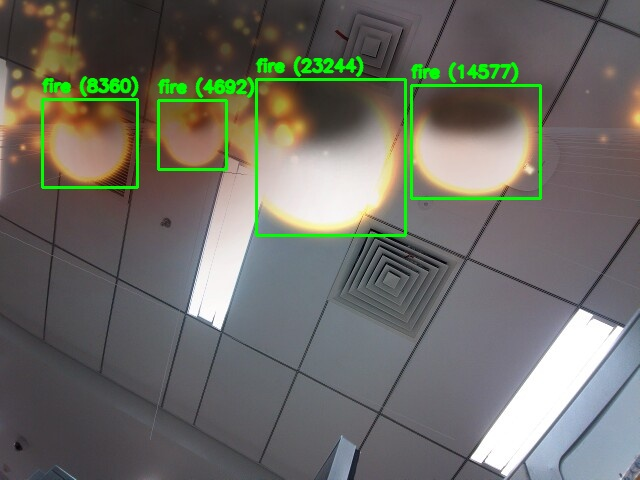fire: (256, 79, 405, 235), (411, 85, 540, 198), (42, 99, 137, 187), (158, 100, 226, 169)
